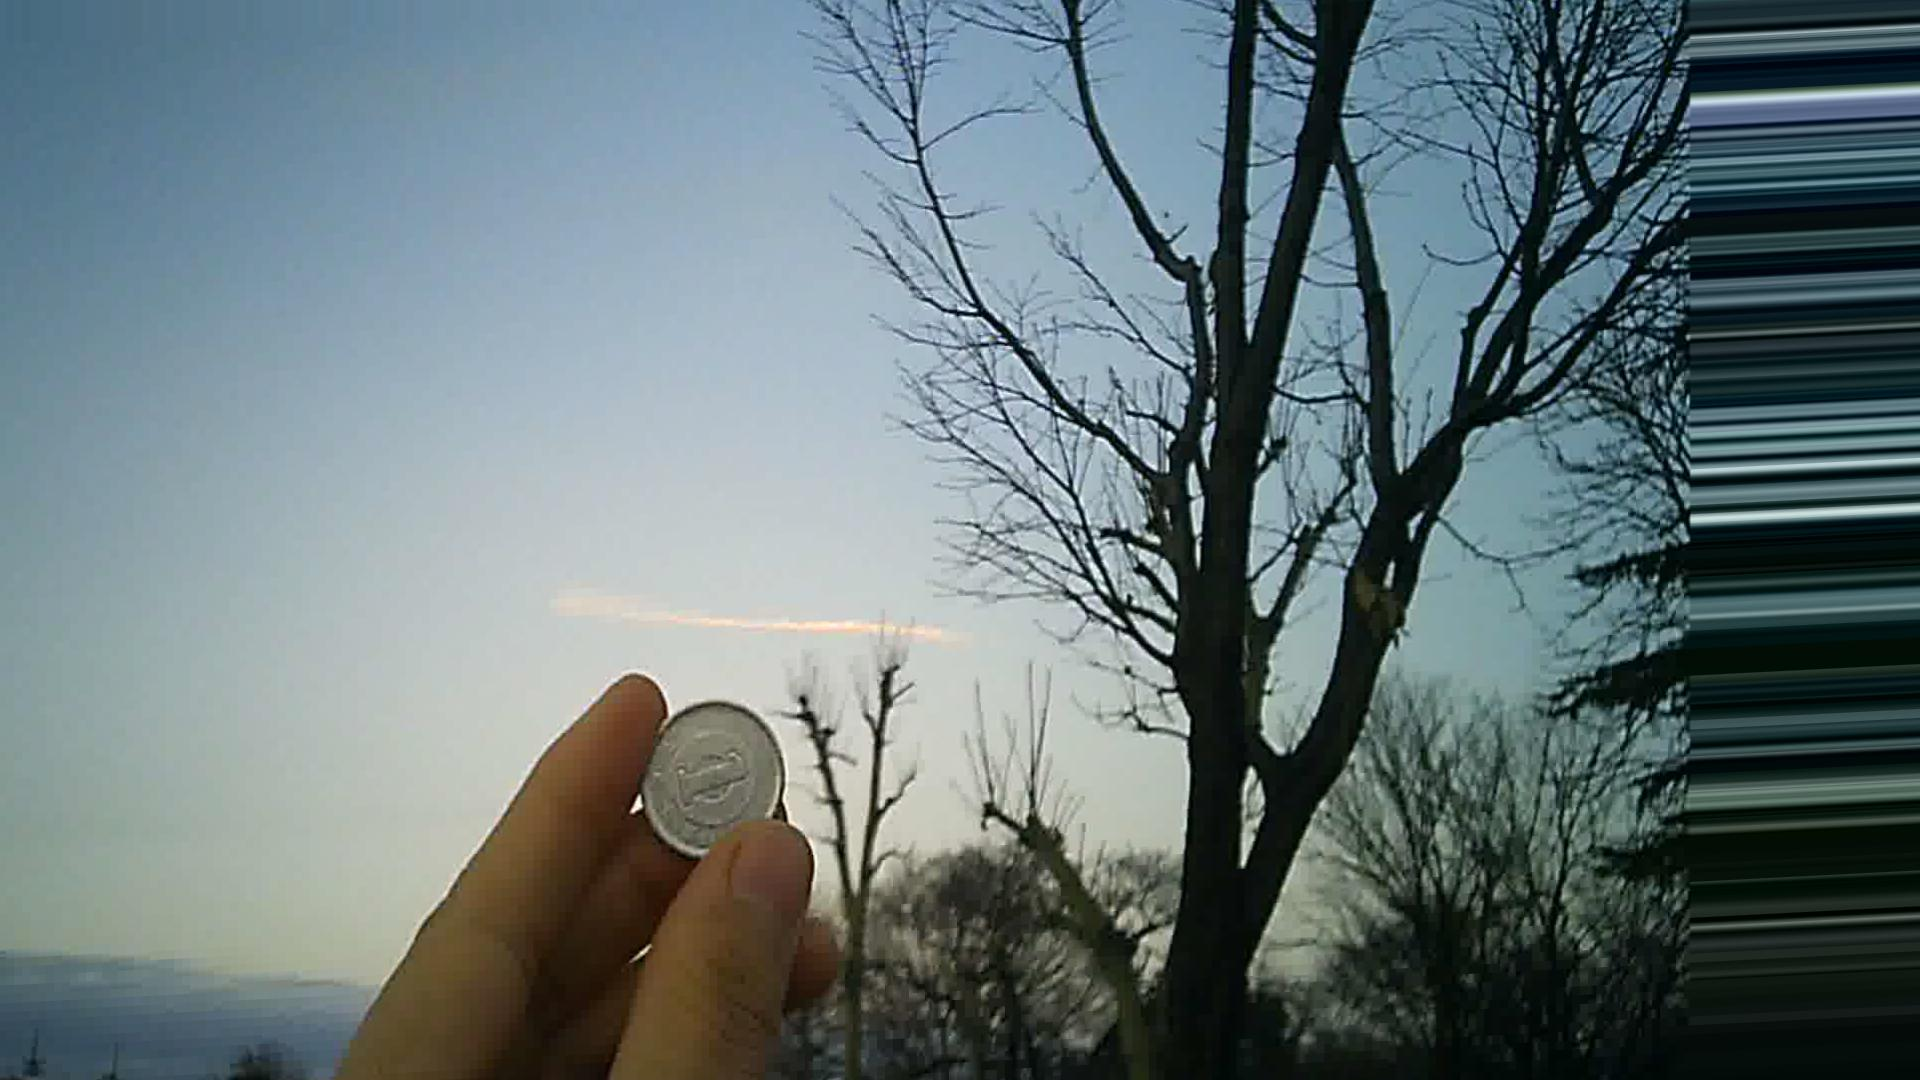1 Yen: (633, 702, 782, 845)
